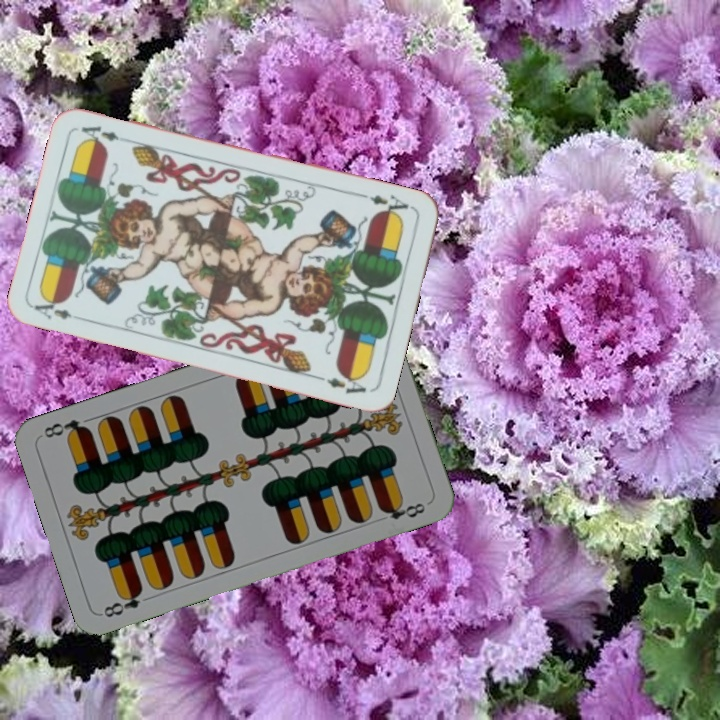E8: (99, 584, 146, 620)
EA: (358, 190, 416, 221), (30, 292, 88, 322)
